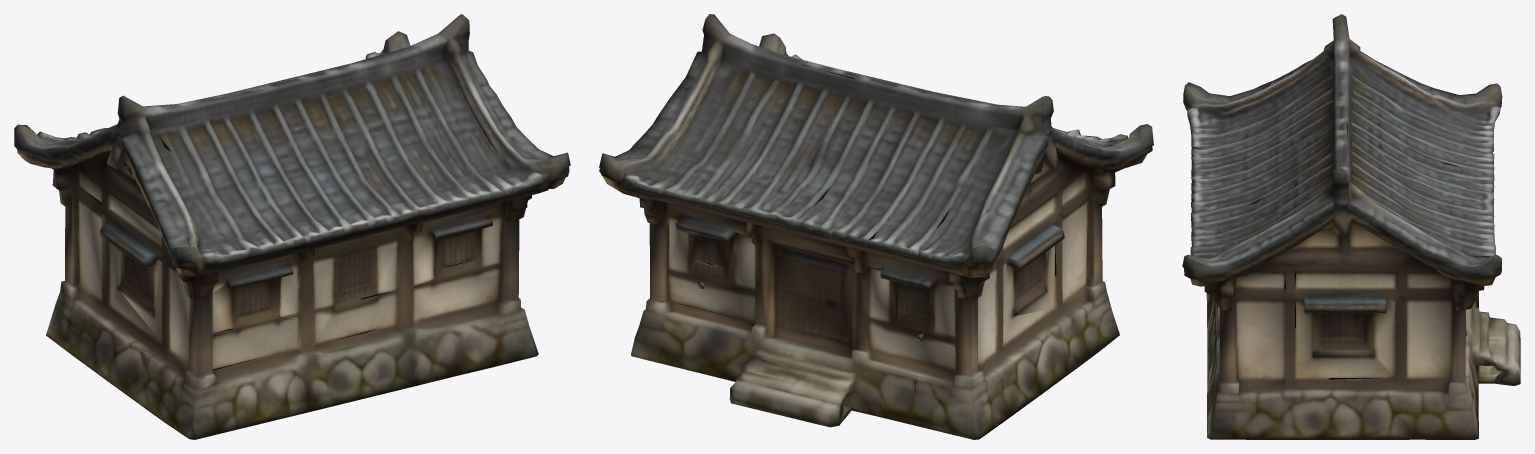
Rendered from house.glb.
3 views of the same model, side by side, from view 1: azimuth 30°, elevation 25°; view 2: azimuth 150°, elevation 25°; view 3: azimuth 270°, elevation 25° (orthographic). The views are drawn at different scales.
Visible parts, largest first — view 1: MV_house; view 2: MV_house; view 3: MV_house.
Boxes of the visible parts, x1=… form: MV_house: x1=14, y1=14, x2=570, y2=439; MV_house: x1=599, y1=14, x2=1153, y2=439; MV_house: x1=1182, y1=14, x2=1520, y2=439.
Size of the model in its own units: 5.96 by 4.2 by 4.76.
1 material, 1 textured.
